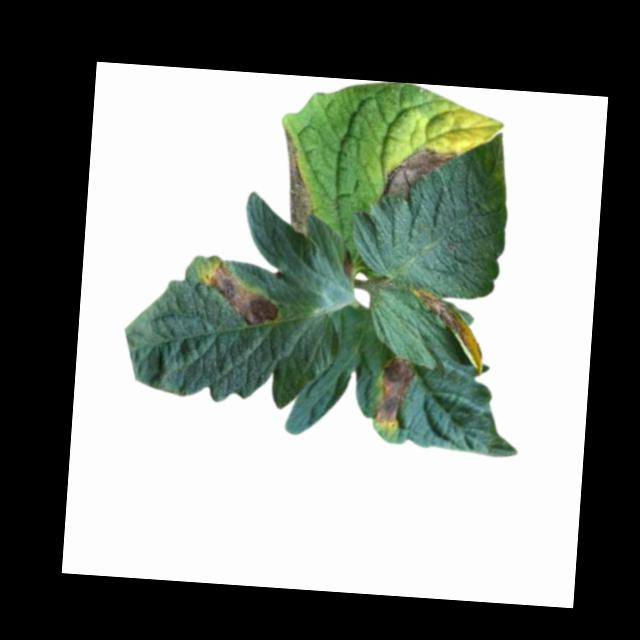Early_blight: (405, 286, 488, 375), (202, 263, 281, 330), (380, 144, 457, 209), (275, 129, 319, 240), (373, 353, 414, 430), (340, 250, 354, 280)
